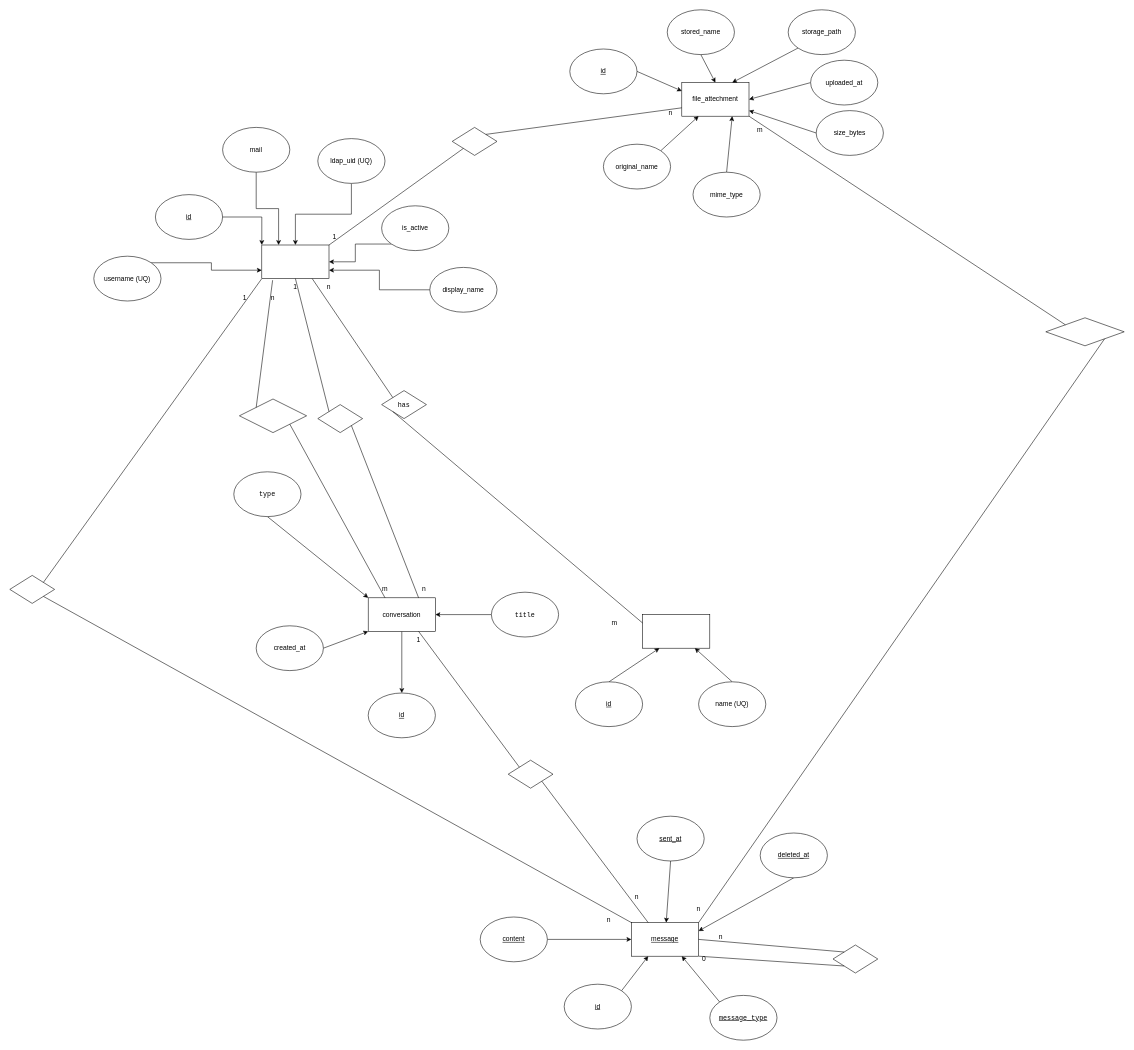
This 1134x1050 diagram has some shape labels left out. The centre of each missing label's shape, as x and y in pixels:
"app_user" belongs at pixel 295 261.
"contains" belongs at pixel 530 774.
"creates" belongs at pixel 340 418.
"has attachment" belongs at pixel 1084 331.
"participates in" belongs at pixel 273 415.
"replies to" belongs at pixel 855 958.
"role" belongs at pixel 676 631.
"sends" belongs at pixel 32 589.
"uploads" belongs at pixel 474 141.
